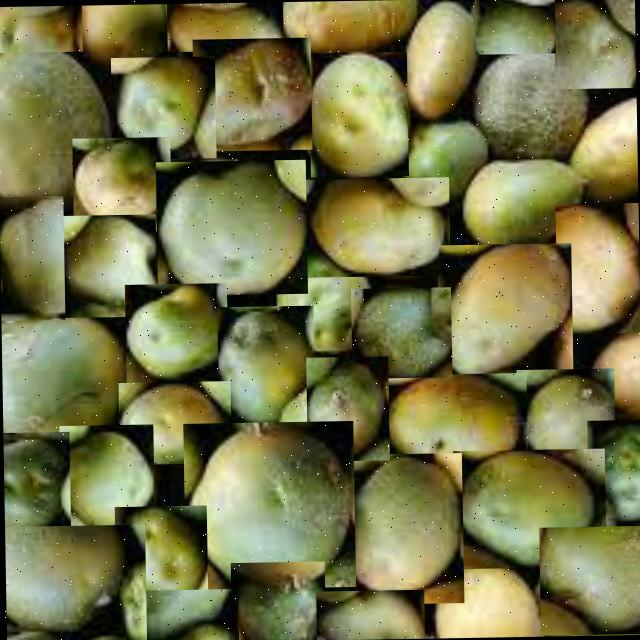Defected potato: (182, 420, 354, 588), (154, 158, 306, 295), (0, 31, 116, 205), (452, 447, 606, 568), (438, 242, 572, 378), (0, 311, 134, 446), (344, 452, 463, 604), (3, 523, 145, 640), (469, 41, 590, 168), (302, 176, 449, 276), (385, 372, 527, 472), (190, 36, 312, 150), (461, 152, 583, 256), (308, 50, 408, 176), (216, 304, 314, 428), (274, 238, 376, 356), (537, 524, 640, 634), (58, 423, 154, 541), (554, 202, 640, 332), (110, 54, 216, 158), (123, 282, 227, 382), (398, 1, 483, 120), (514, 366, 614, 466), (113, 504, 207, 610), (62, 212, 156, 316), (70, 136, 171, 232), (117, 379, 231, 464), (349, 286, 451, 378), (304, 355, 388, 460), (398, 114, 494, 200), (0, 194, 64, 319), (2, 431, 70, 547), (229, 560, 324, 640), (564, 97, 638, 197), (552, 0, 636, 87), (279, 0, 422, 50), (71, 3, 173, 68), (122, 587, 237, 640), (585, 418, 640, 525), (165, 0, 282, 50), (314, 588, 424, 640), (473, 0, 554, 53), (0, 4, 81, 51)
Potato: (429, 552, 538, 638)
